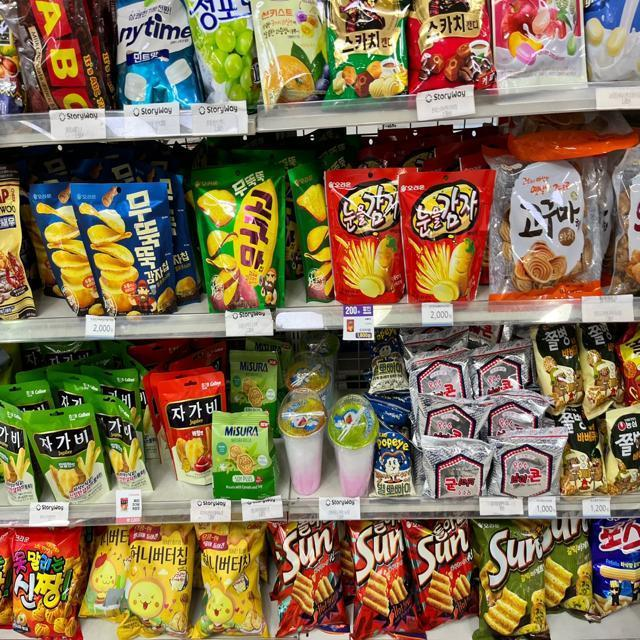product: (503, 145, 604, 298), (81, 182, 172, 330), (402, 170, 499, 303), (191, 170, 281, 311), (324, 171, 398, 304), (350, 516, 418, 638), (6, 530, 82, 638), (477, 519, 545, 635), (124, 522, 190, 634), (29, 411, 103, 510), (200, 530, 265, 633), (211, 412, 276, 504), (423, 437, 496, 500), (498, 433, 564, 495)
